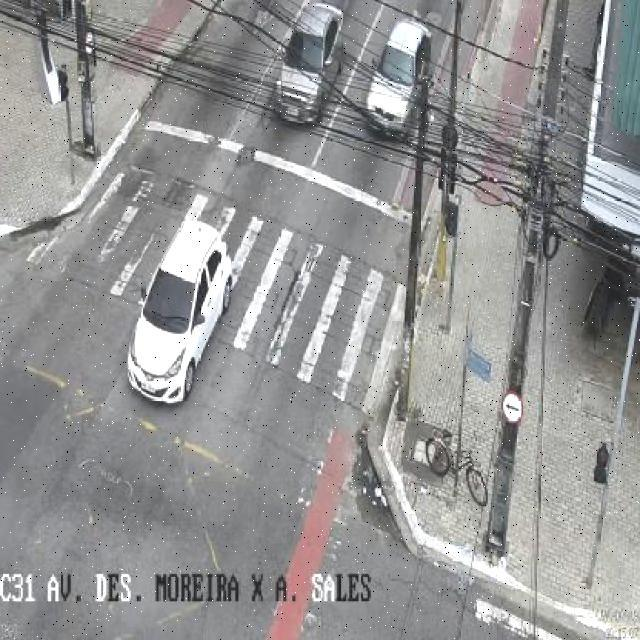Car: (125, 219, 234, 404), (270, 1, 344, 130), (364, 17, 435, 140)
Cycle: (424, 427, 491, 506)
